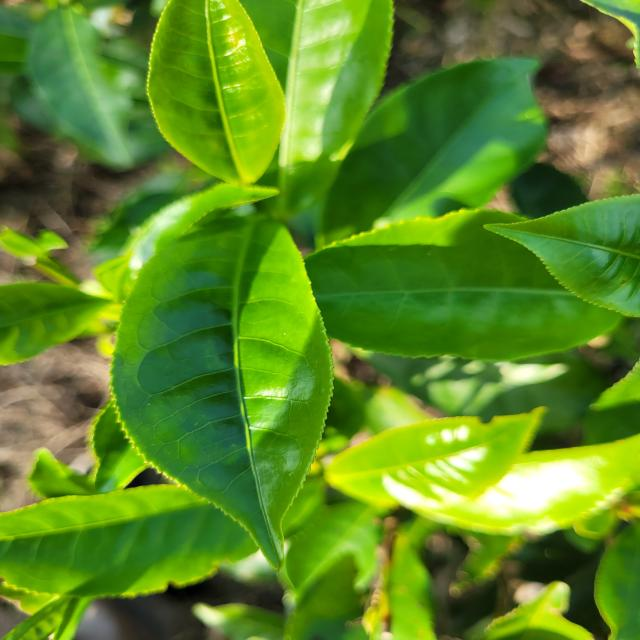Category B(2-4 days): (53, 170, 380, 574)
